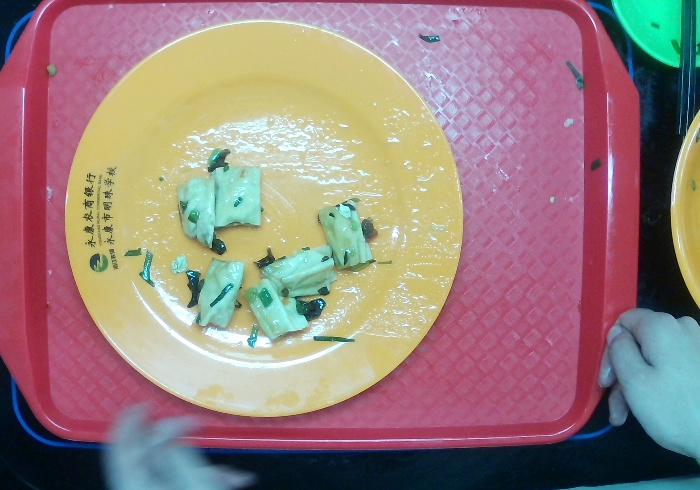YKMZ-Ju_Se_Mian_Pan: (63, 18, 465, 421)
